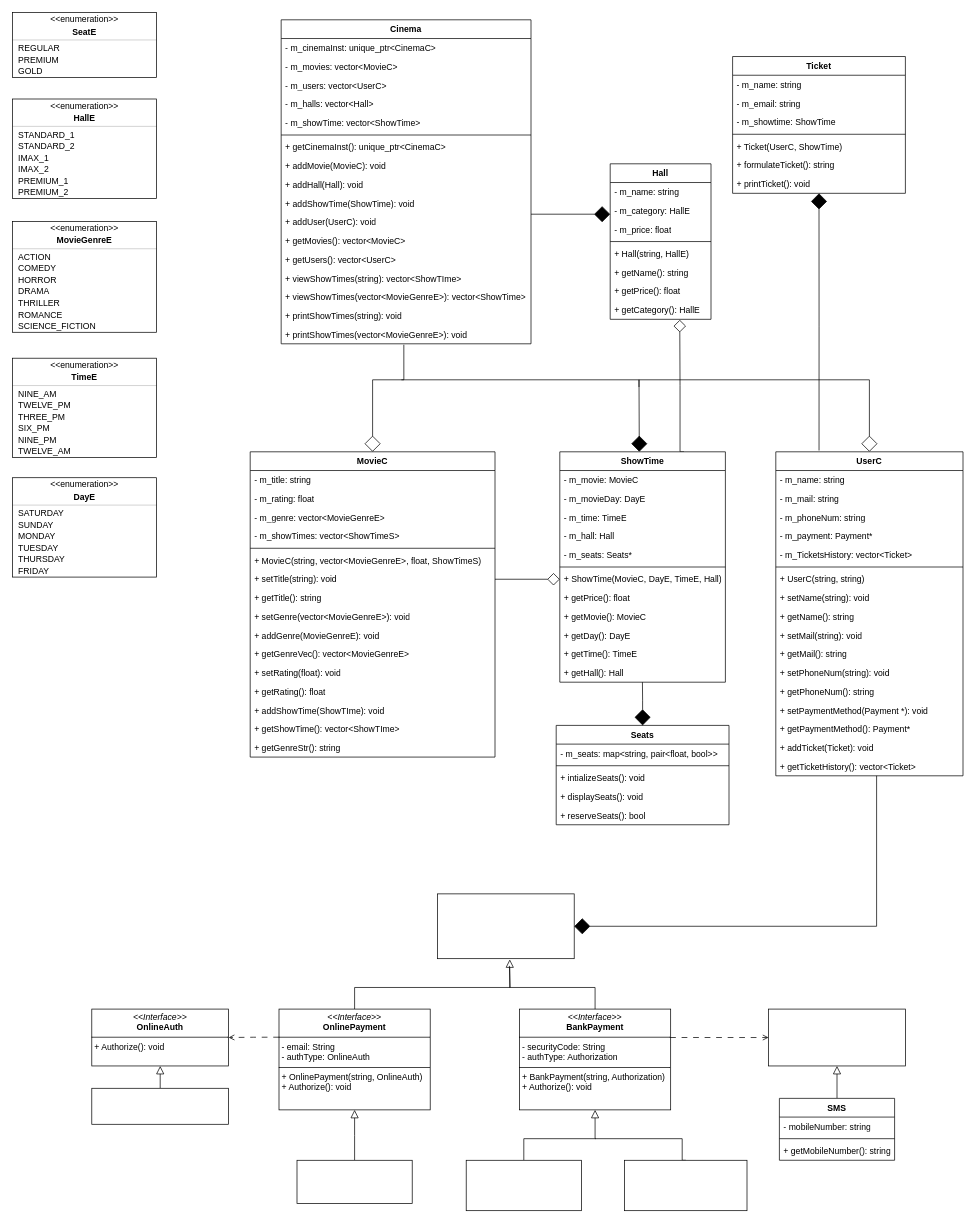
Some shapes in this 976 by 1223 pixel diagram are drawn without their labels. The centre of each missing label's shape, as x and y in pixels:
"<<Interface>> Authorization + Authorize(): void" goes at point (836, 1037).
"<<Interface>> Payment + processPayment(): String" goes at point (505, 926).
"Credit + Credit(string, Authorization)" goes at point (685, 1185).
"Debit + Debit(string, Authorization)" goes at point (523, 1185).
"NotARobot" goes at point (160, 1106).
"Paypal + Paypal(string, OnlineAuth)" goes at point (354, 1181).
